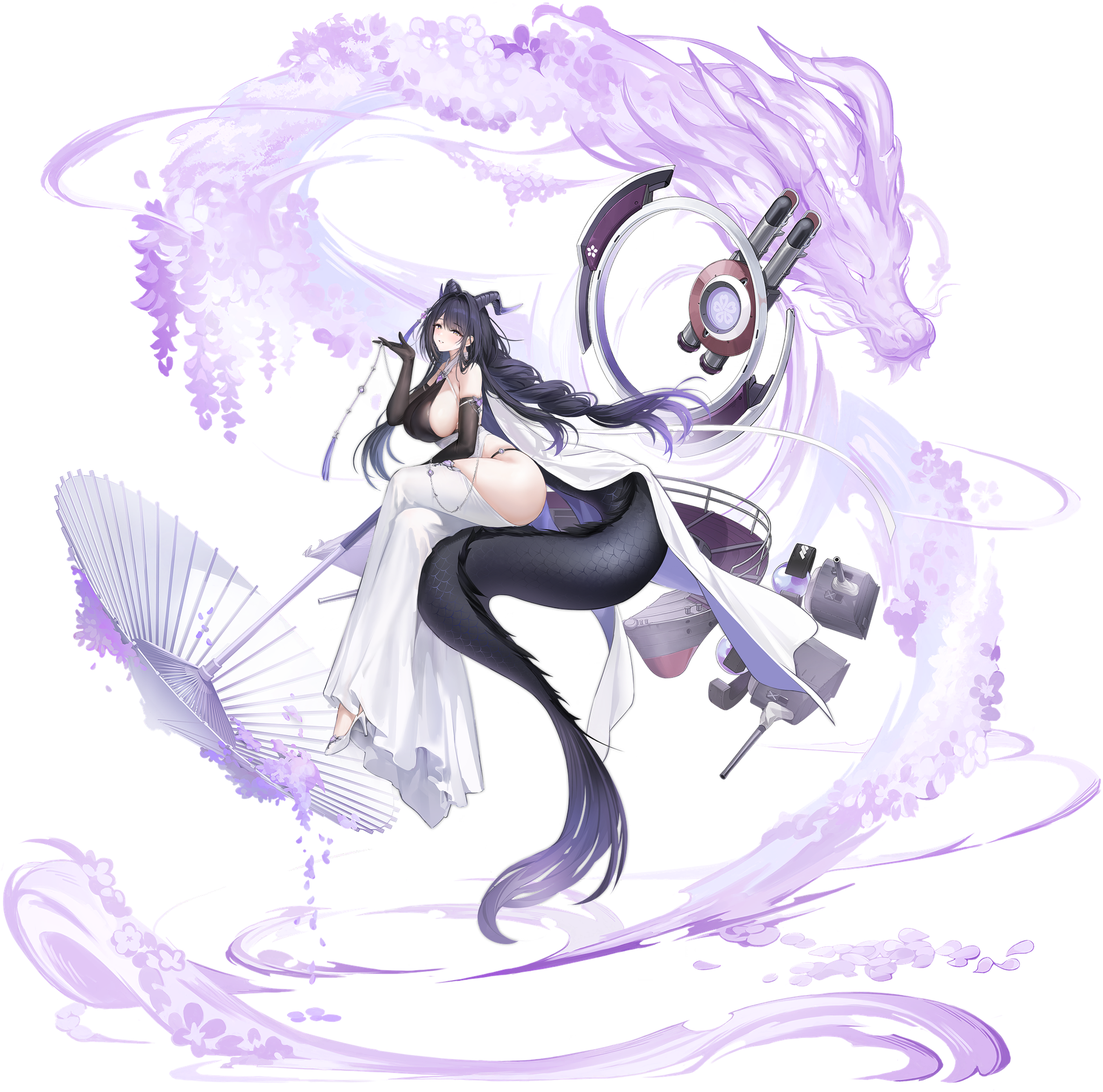person: (272, 245, 917, 1023)
